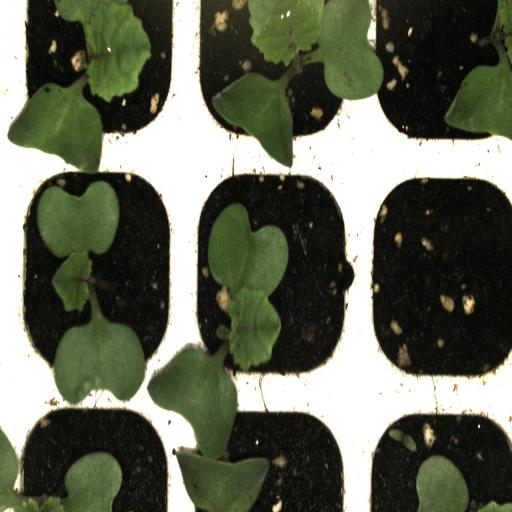noseedling: (361, 159, 512, 393)
seedling: (182, 163, 361, 396), (4, 161, 182, 390), (0, 0, 188, 159), (184, 0, 361, 161)
